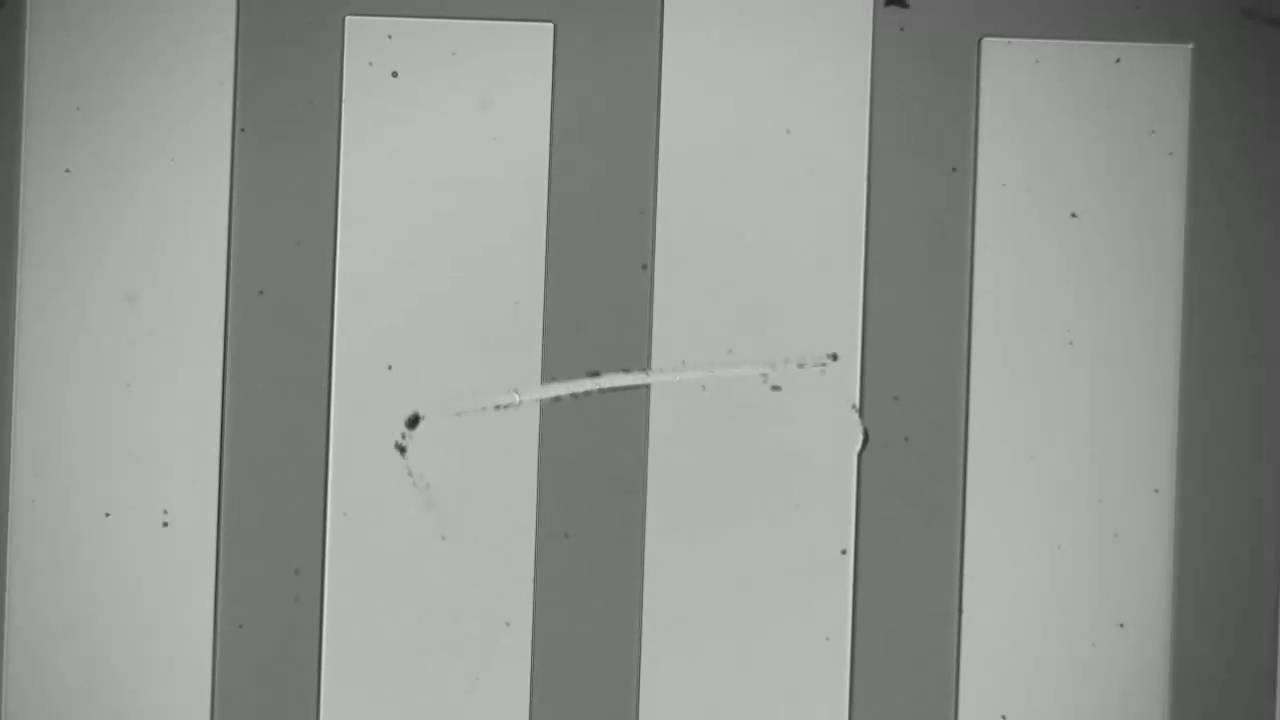Short_circuit: (510, 344, 671, 415)
